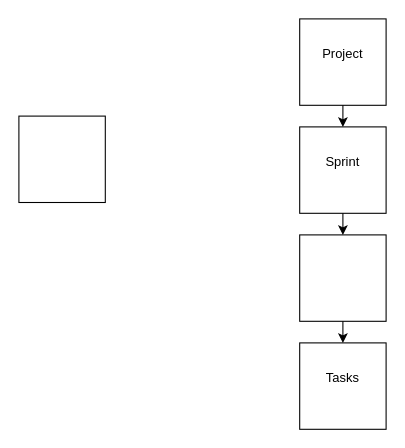
This 405x448 diagram has some shape labels left out. Here are the shapes that lost their labels. From the top down, the centre of each, then its label:
pixel 61 158: User -Authentify -Create
pixel 342 277: KANBAN Columns
